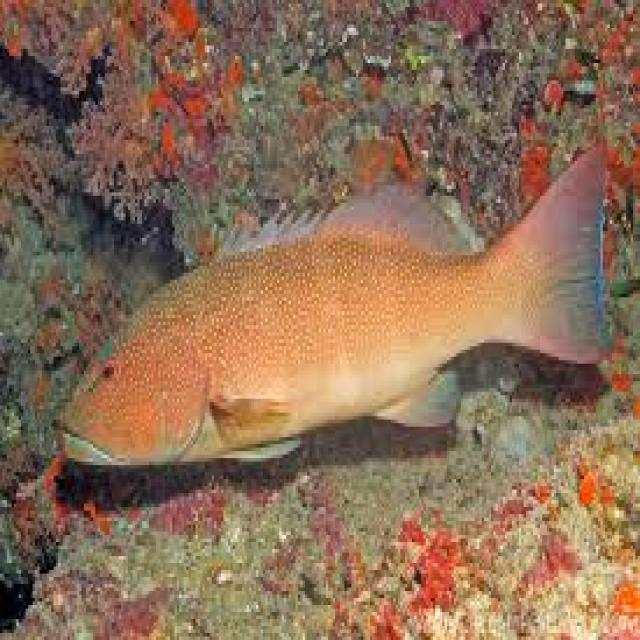Plectropomus-leopardus: (52, 171, 631, 502)
